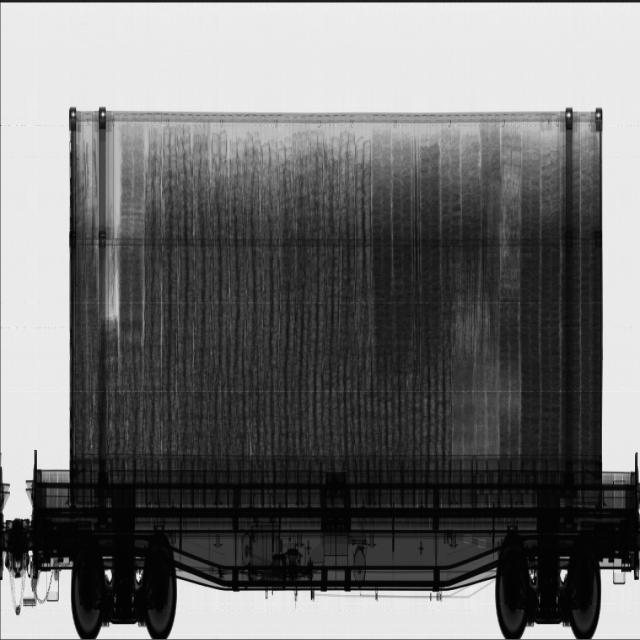shoes: (374, 125, 597, 469), (74, 138, 99, 456), (118, 126, 145, 317)
tableware: (102, 126, 452, 458)
